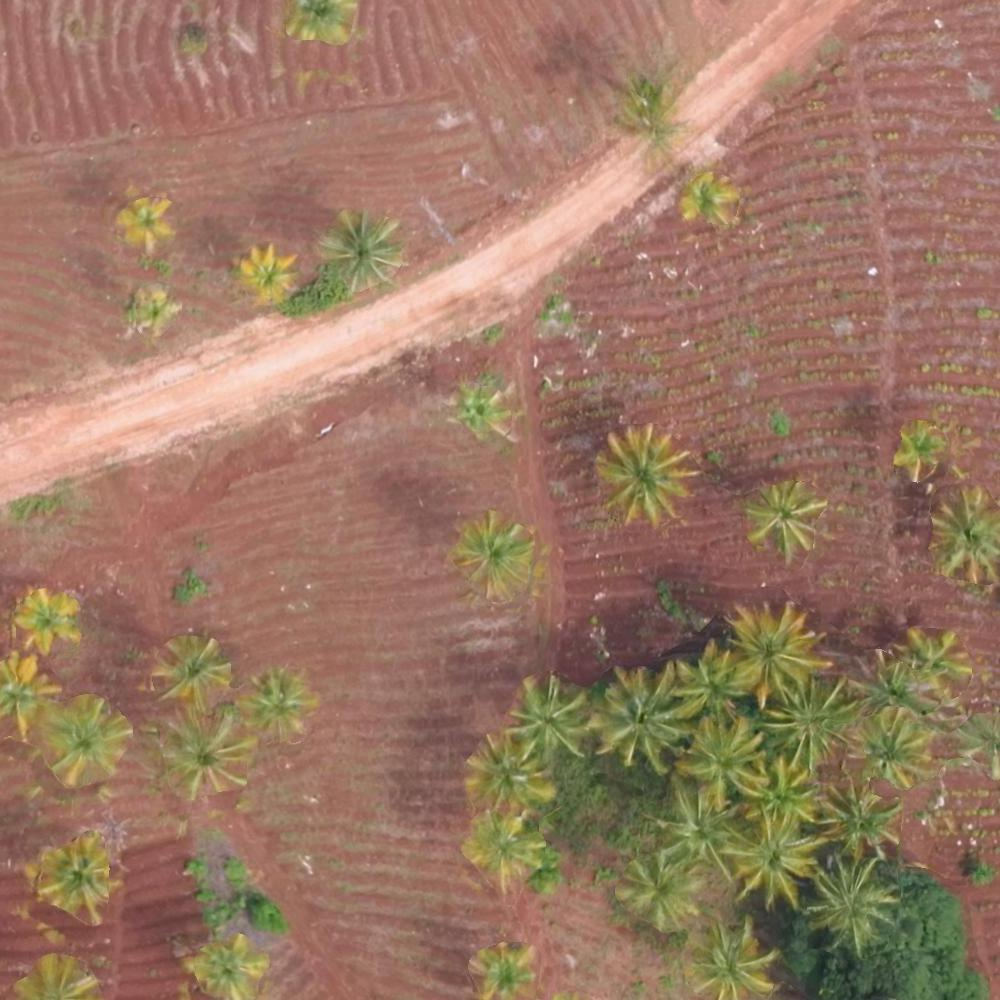Palm: (725, 812, 821, 905), (650, 778, 744, 872), (597, 668, 692, 761), (600, 429, 690, 522), (676, 718, 771, 806), (724, 608, 817, 694), (765, 678, 853, 763), (40, 697, 129, 780), (464, 733, 552, 814), (163, 713, 248, 796), (808, 865, 893, 948), (822, 781, 903, 864), (510, 678, 592, 758), (320, 211, 402, 289), (691, 919, 774, 994), (929, 492, 1000, 578), (618, 855, 698, 931), (857, 709, 936, 785), (675, 643, 751, 721), (895, 624, 972, 700), (34, 842, 114, 914), (464, 813, 542, 886), (747, 758, 825, 831), (151, 634, 226, 706), (745, 483, 822, 551), (458, 521, 530, 593), (187, 938, 266, 999), (13, 586, 81, 651), (245, 671, 309, 735), (463, 946, 531, 1000), (682, 169, 742, 226), (116, 193, 181, 244), (242, 244, 298, 297)
